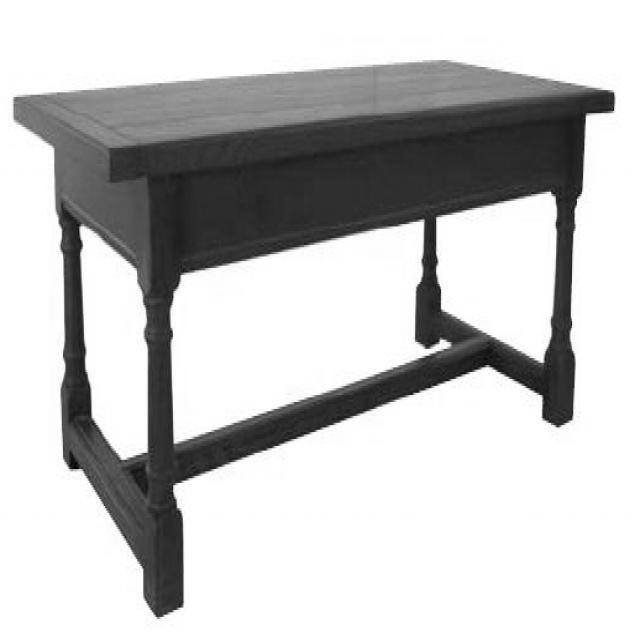table: (13, 58, 617, 619)
